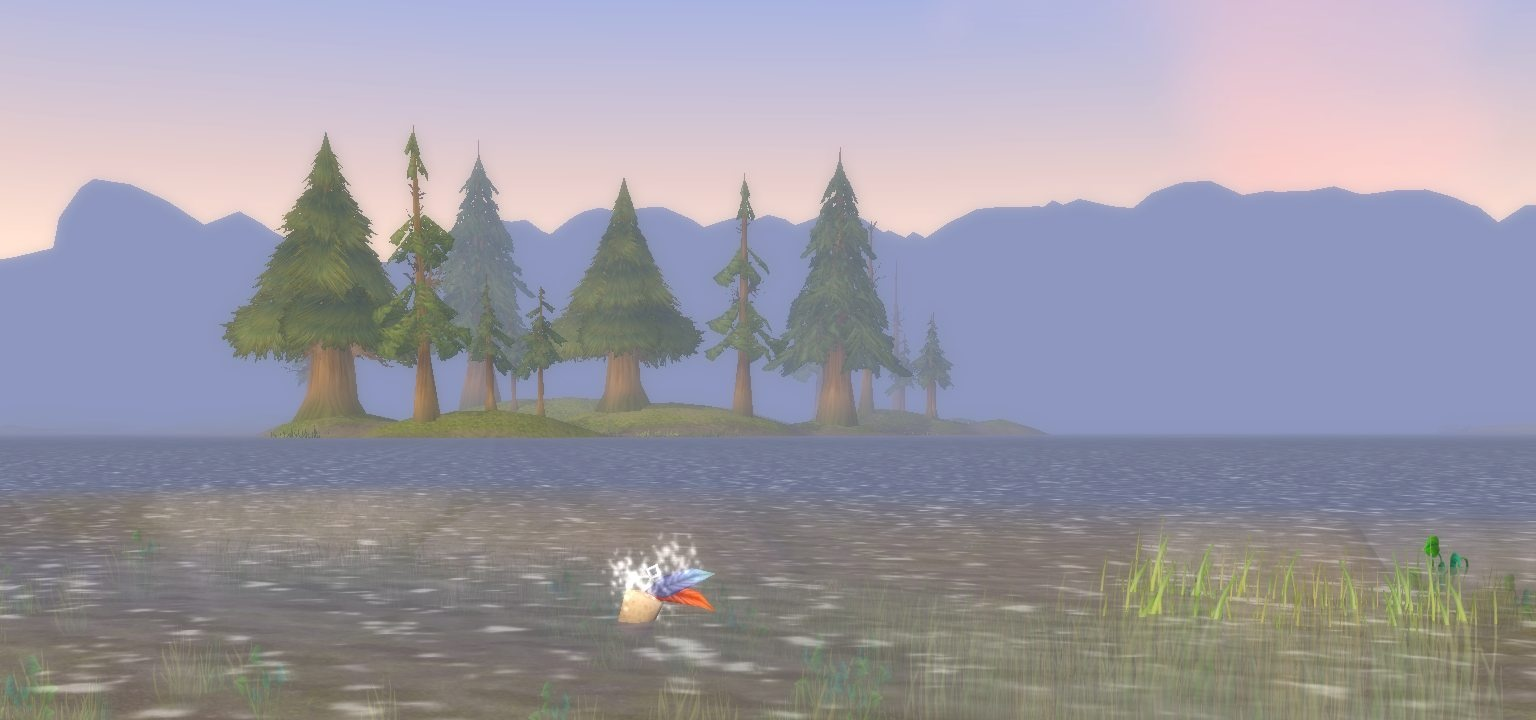Splash: (613, 563, 714, 626)
